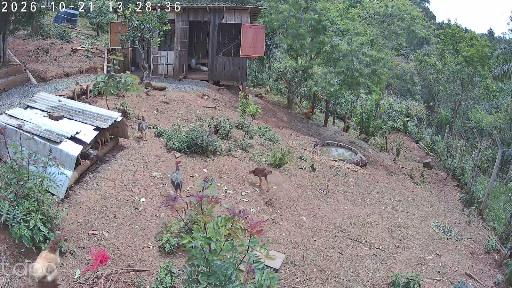frango: (171, 160, 182, 200)
galinha: (32, 233, 63, 286), (248, 164, 271, 191), (79, 140, 93, 166), (94, 129, 109, 150), (137, 116, 149, 140), (266, 85, 270, 93)
galo: (302, 105, 314, 121)
pato: (200, 66, 208, 74)
